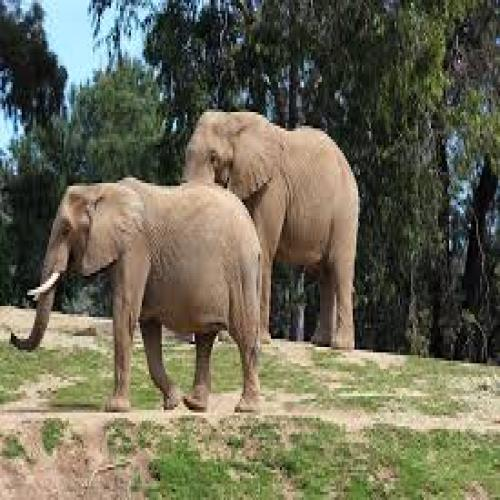asian_elephant-endangered: (13, 178, 266, 416), (182, 108, 361, 352)
